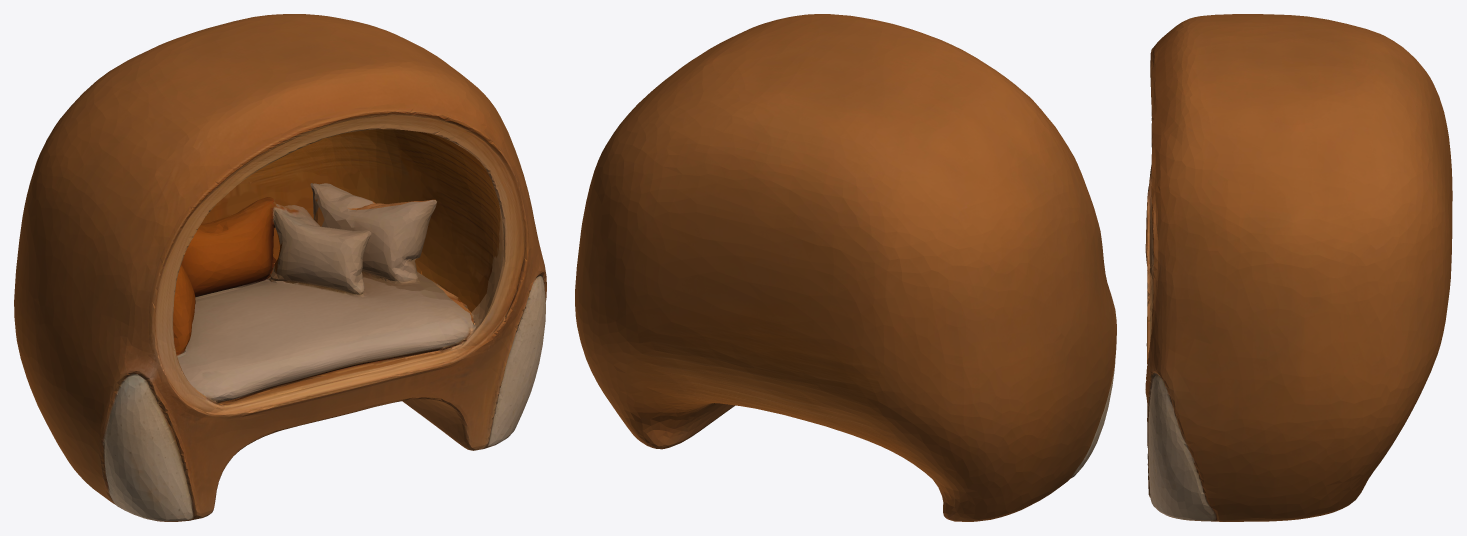
File: room-09-cocoon-bench.glb
The picture shows the model from 3 angles, left to right: view 1: azimuth 30°, elevation 25°; view 2: azimuth 150°, elevation 25°; view 3: azimuth 270°, elevation 25°; orthographic projection. The views are drawn at different scales.
Parts seen in each view (by area): view 1: textured_mesh.obj; view 2: textured_mesh.obj; view 3: textured_mesh.obj.
Part boxes in pixels (box(x1,y1,x2,y2)): textured_mesh.obj: box(14, 14, 546, 521); textured_mesh.obj: box(575, 14, 1116, 521); textured_mesh.obj: box(1145, 14, 1452, 521).
Size of the model in its own units: 2.19 by 1.8 by 1.3.
1 material, 1 textured.
